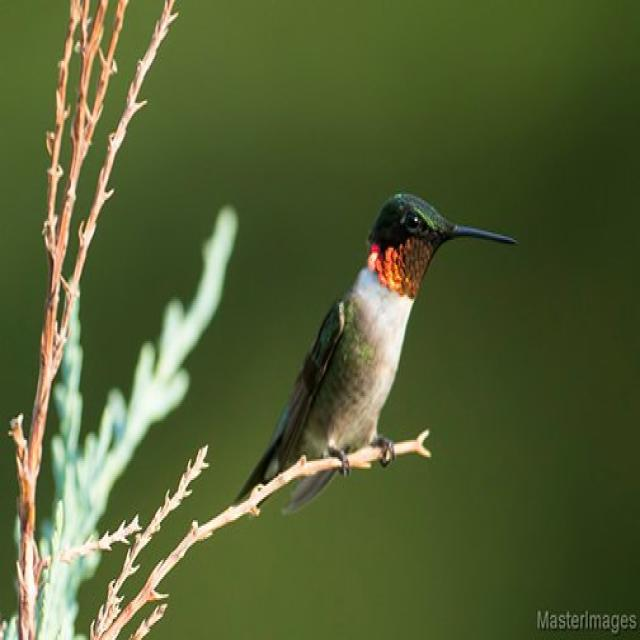Humming Bird: (249, 195, 526, 508)
